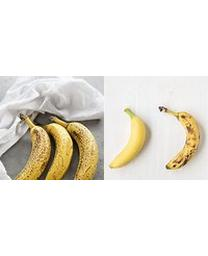banana: (18, 114, 99, 180), (159, 105, 201, 170), (108, 106, 146, 168)
